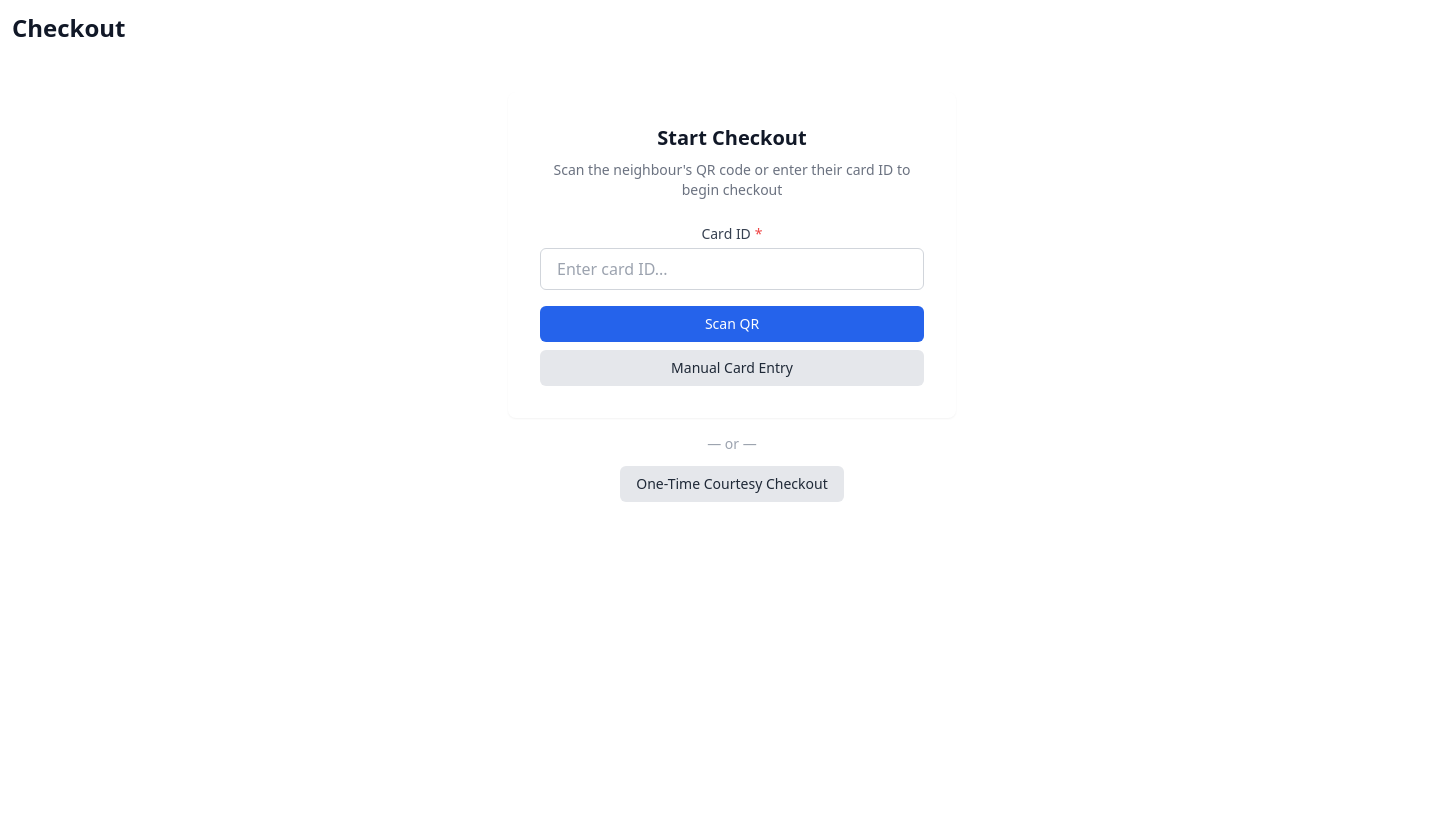
Test: CheckoutPage › transitions to cart phase after valid card scan
This screenshot has width=1452, height=822.
Type "CARD-001" into the field with test id "card-id-input".
click(732, 269); type("CARD-001")  # box [540,248,924,290]
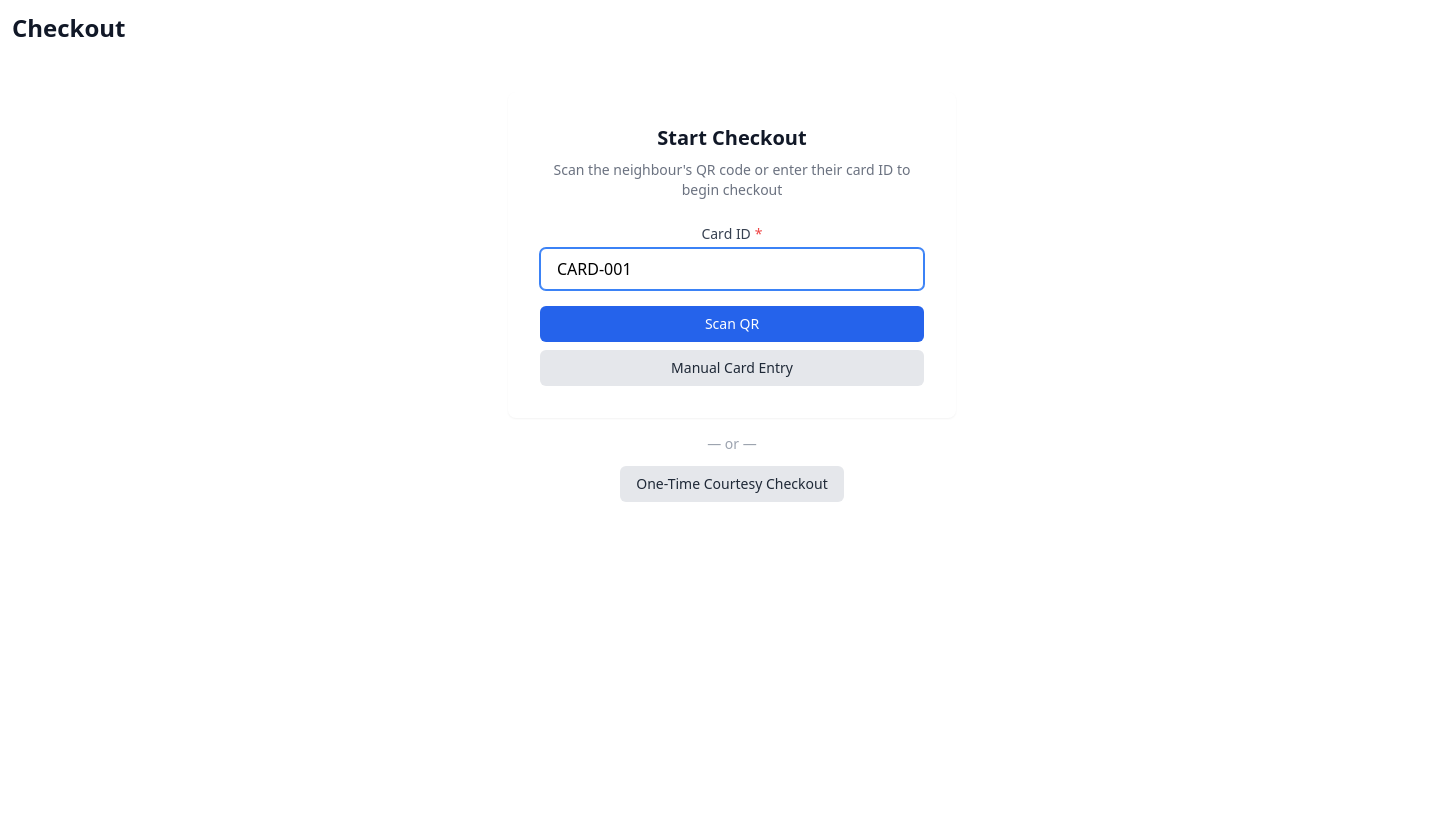
Click the button with test id "manual-card-button".
click(732, 368)  # box [540,350,924,386]
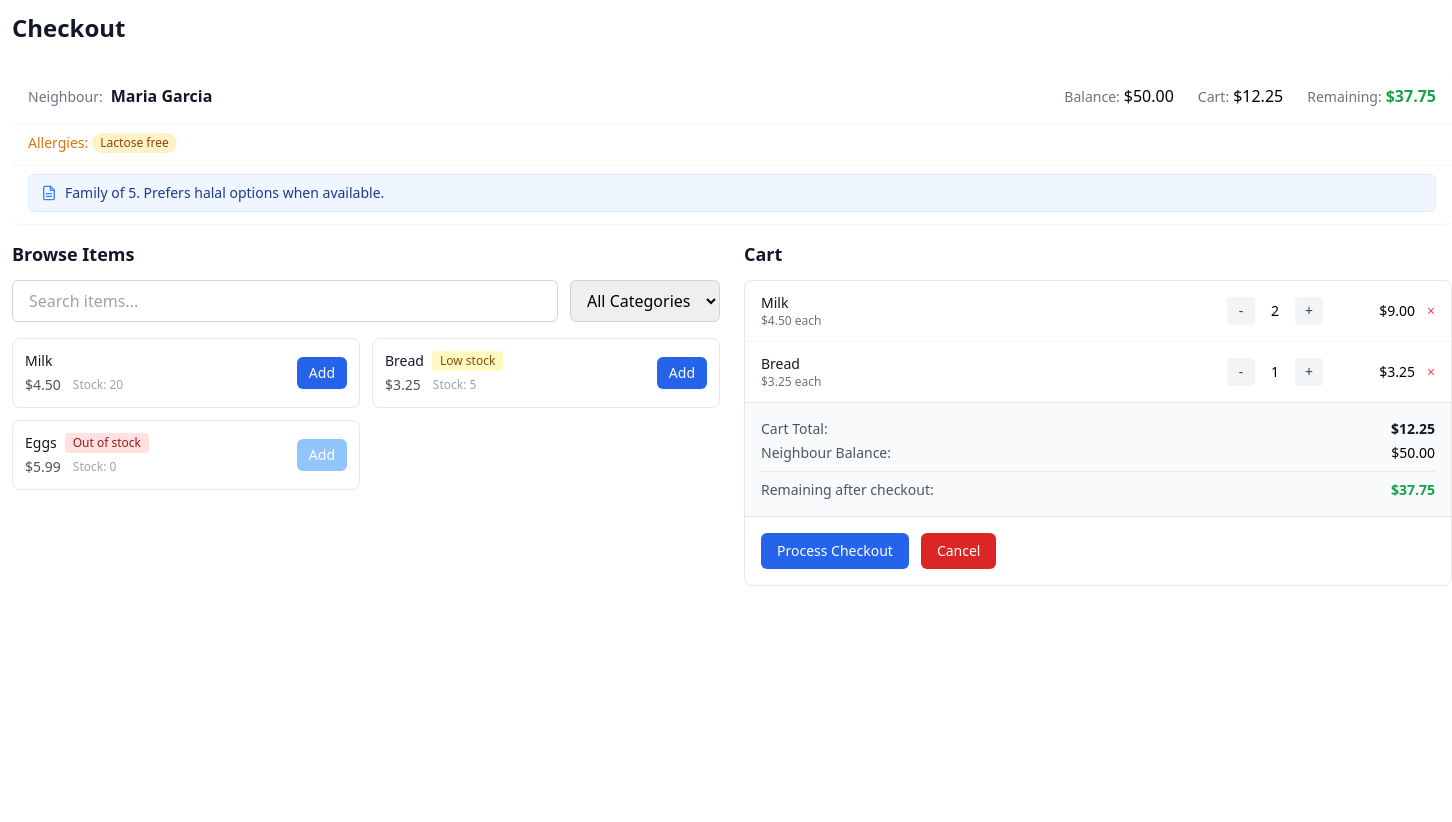
Check: the element with test id "neighbour-banner" is shown, box [12,68,1451,224]
Check: the text "Maria Garcia" is shown, box [111,85,212,107]
